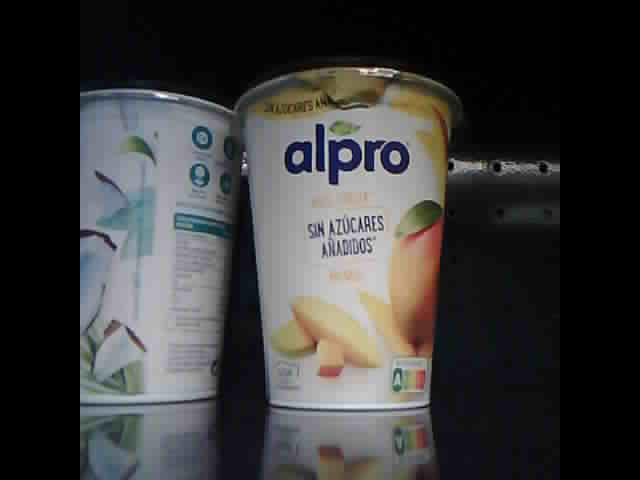alpro: (230, 55, 467, 410), (79, 79, 241, 406)
